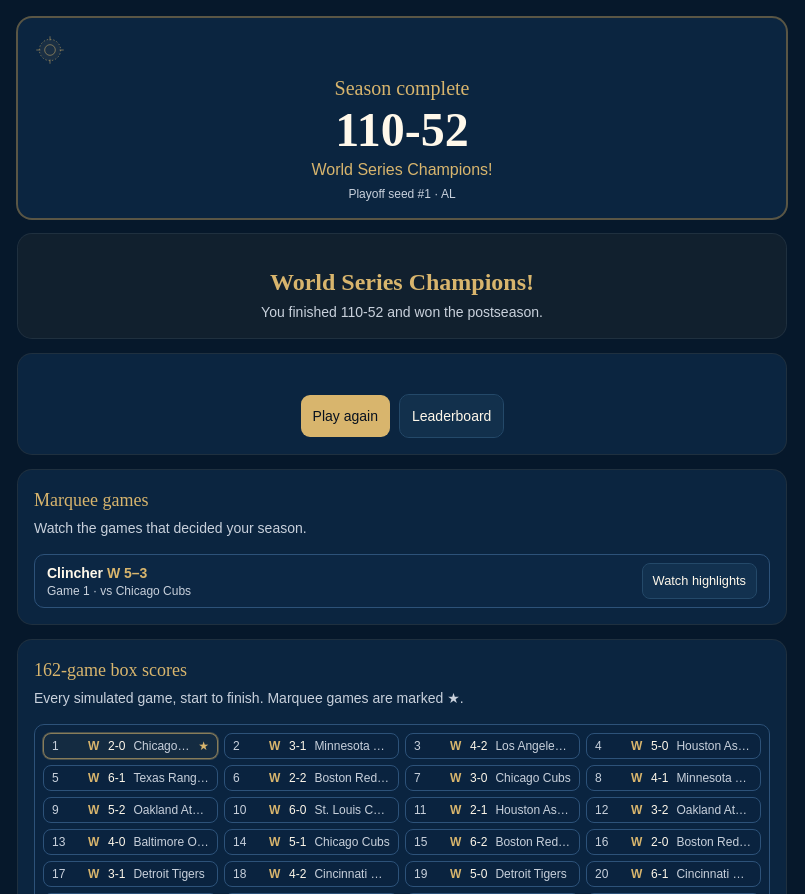
Scenario: Sim162ResultScreen — qualified (World Series champs) › opens a marquee broadcast when Watch highlights is clicked
expect the text "Series win" is not shown: met
Click the button "Watch highlights". click: coordinates (699, 581)
box: [642, 563, 757, 599]
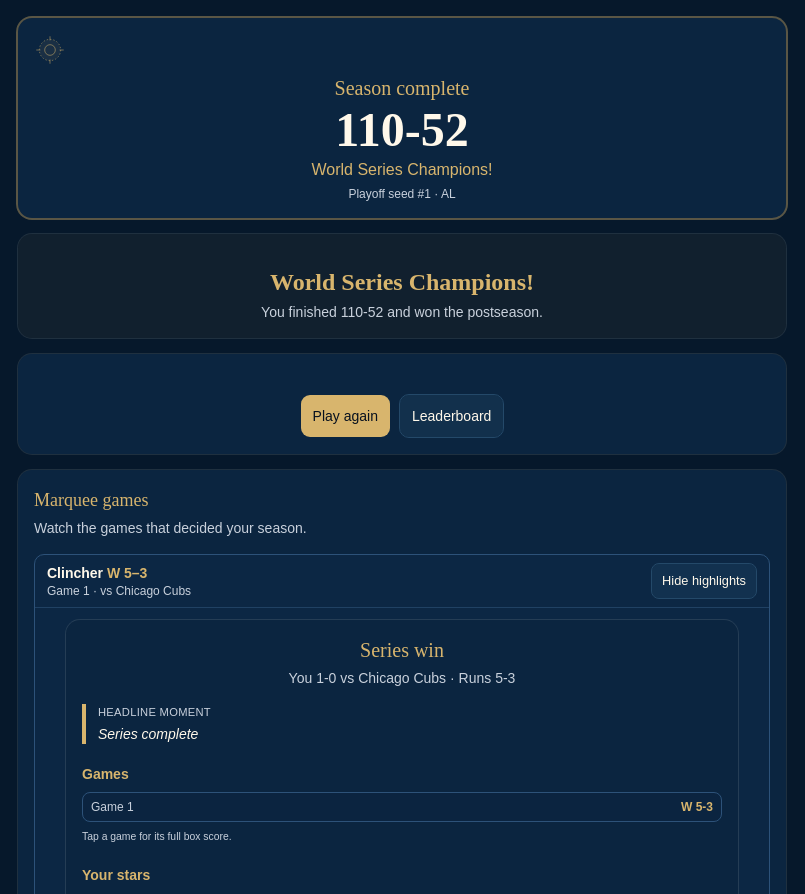
expect the text "Series win" is shown: met, box [360, 639, 444, 661]
